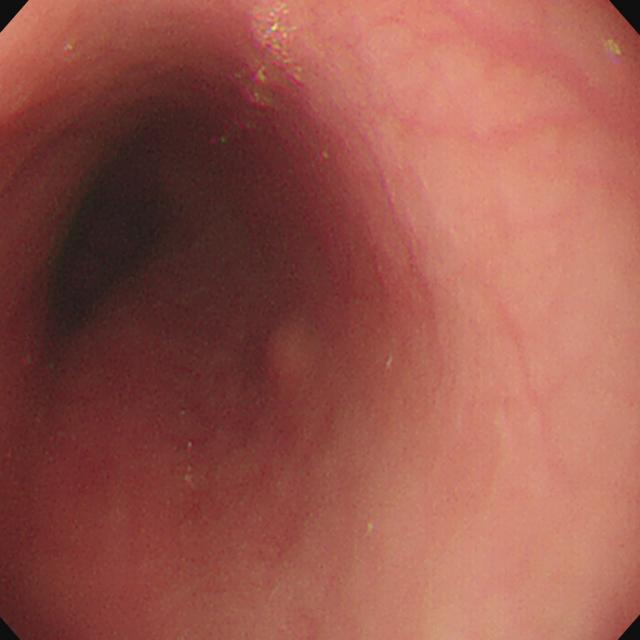E: (52, 191, 160, 324)
T: (250, 2, 308, 86)
